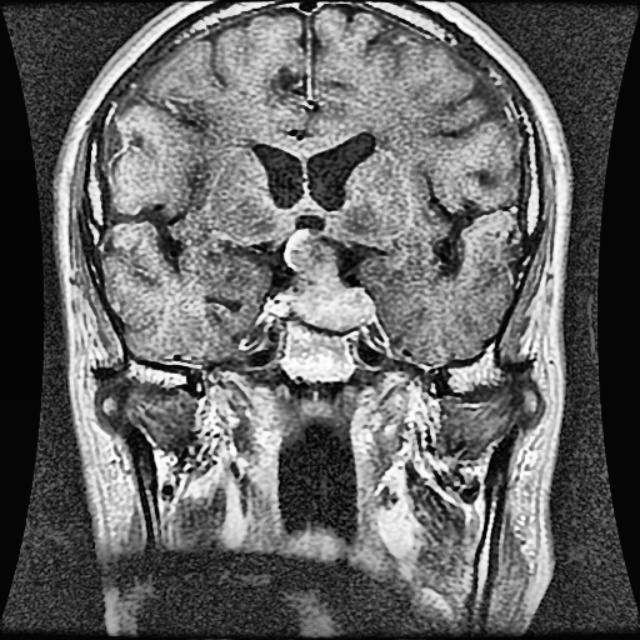Pituitary: (285, 232, 373, 328)
